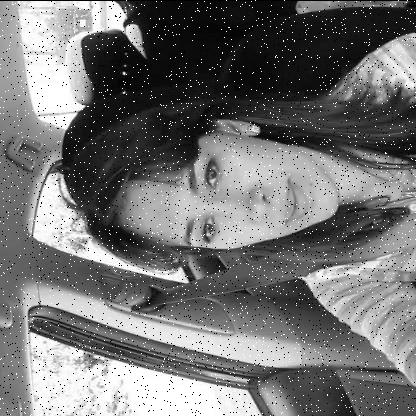seatbelt: (45, 97, 416, 314)
